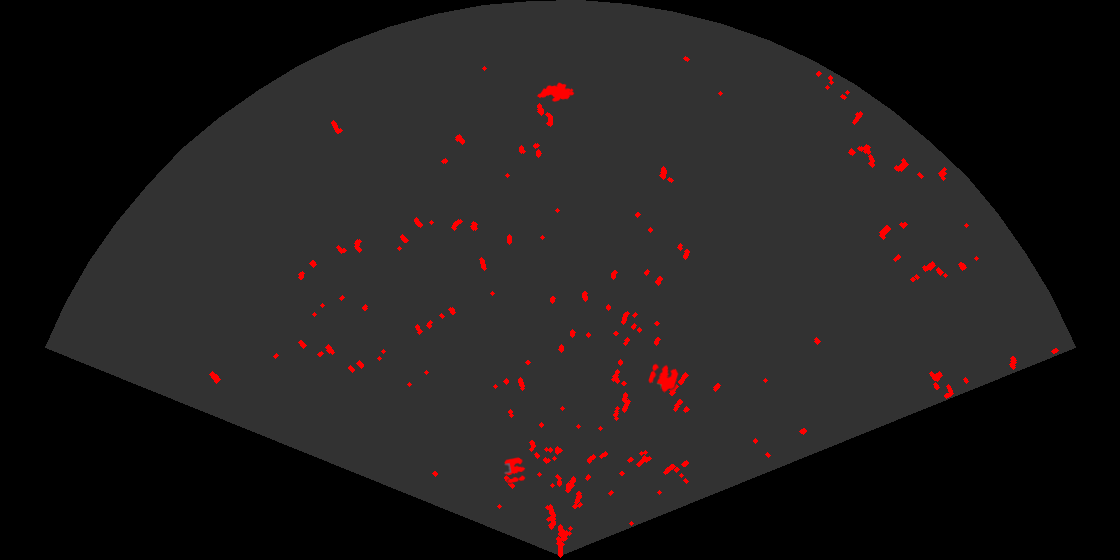AUV: (535, 81, 576, 103)
ball: (647, 362, 680, 394), (503, 456, 527, 485)
